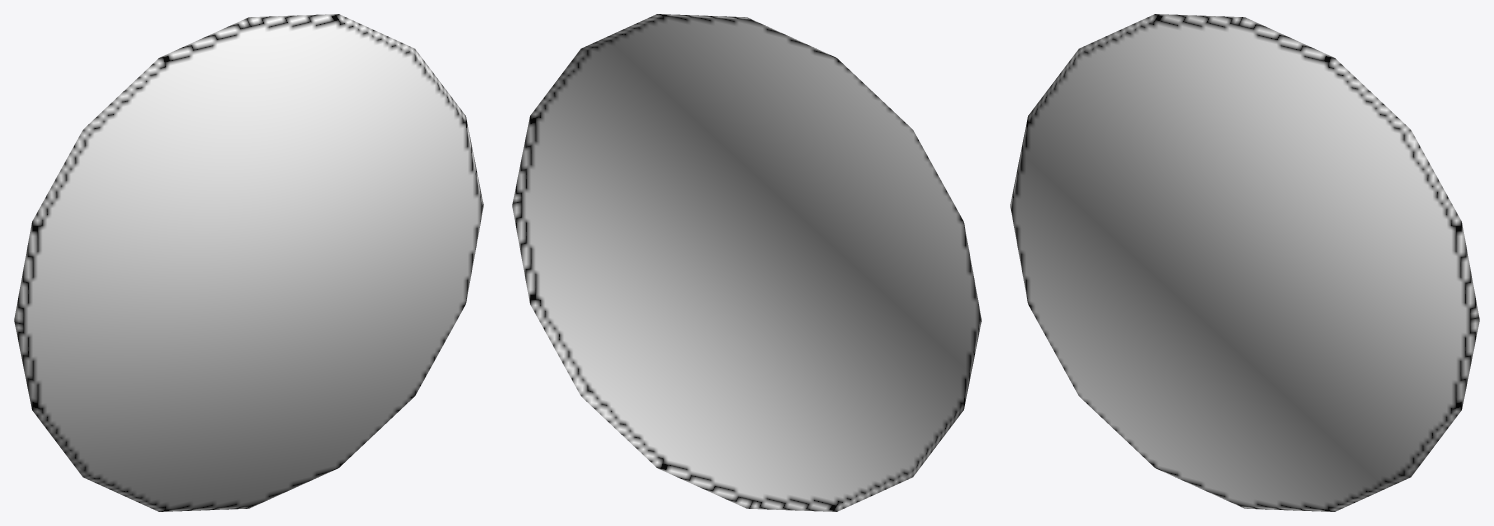
The model's file is Carpet.obj.
The picture shows the model from 3 angles, left to right: view 1: azimuth 30°, elevation 25°; view 2: azimuth 150°, elevation 25°; view 3: azimuth 330°, elevation 25°; orthographic projection.
Parts seen in each view (by area): view 1: Cylinder1; view 2: Cylinder1; view 3: Cylinder1.
Boxes of the visible parts, bbox=[...] form: Cylinder1: bbox=[14, 14, 483, 511]; Cylinder1: bbox=[512, 14, 981, 511]; Cylinder1: bbox=[1010, 14, 1479, 511].
Size of the model in its own units: 4.62 by 4.62 by 0.0646.
Materials: 1 (1 with a texture image).
